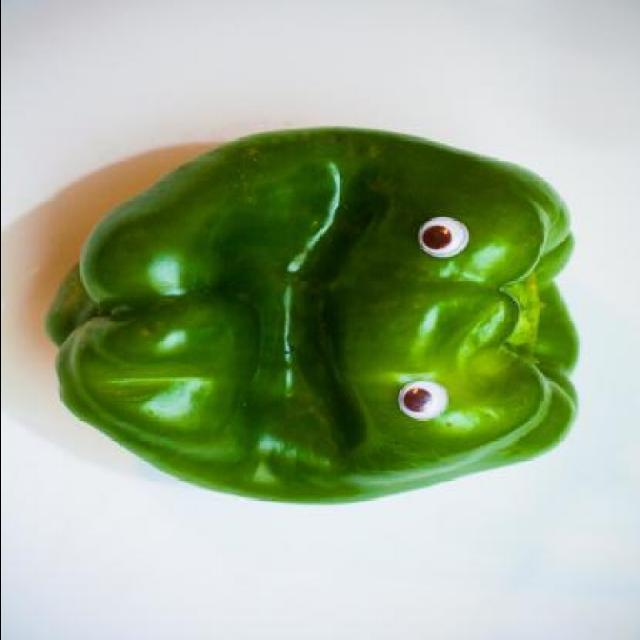Bell pepper: (38, 129, 582, 497)
